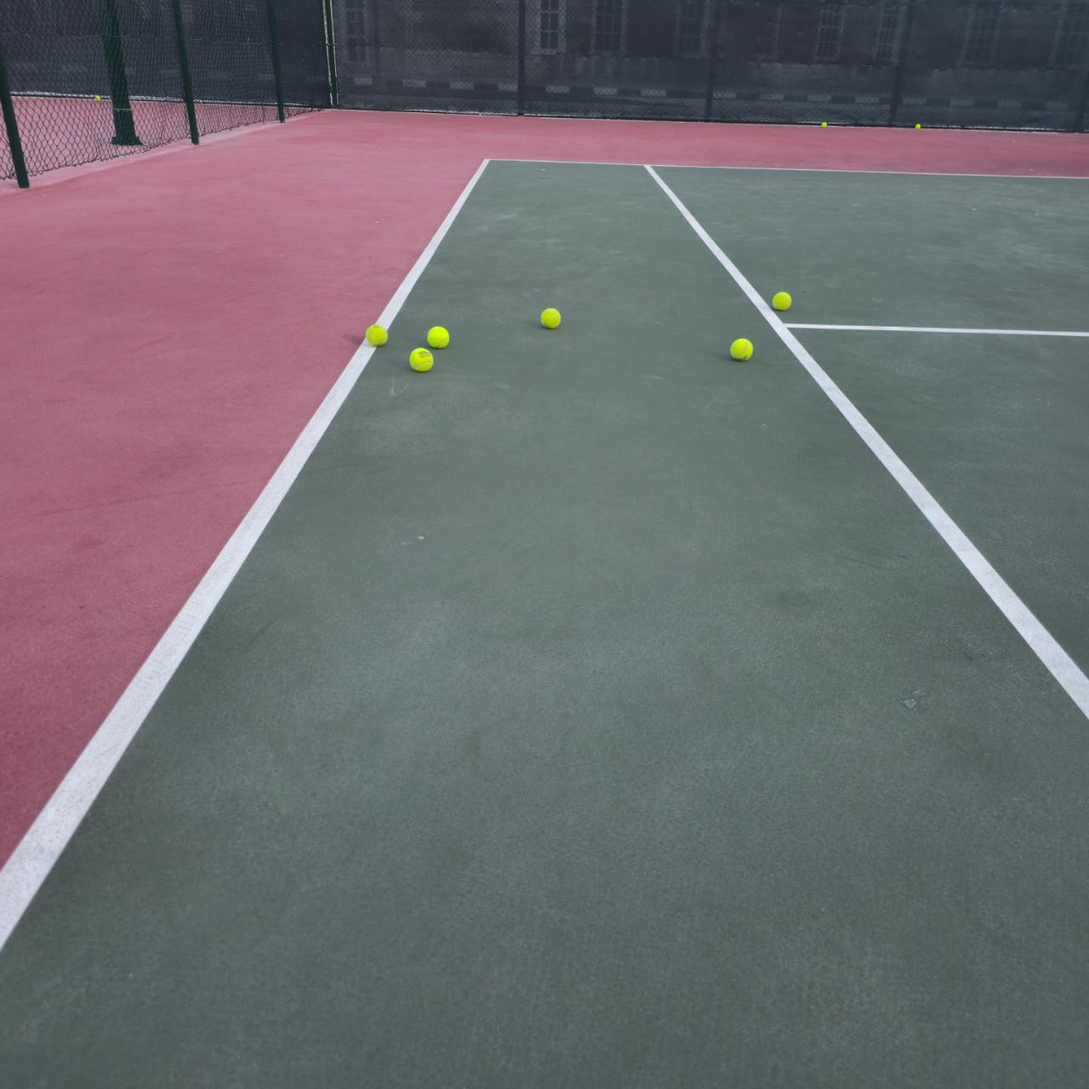tennis-ball: (728, 335, 754, 361), (408, 345, 433, 372), (425, 323, 450, 348), (364, 322, 388, 346), (539, 305, 562, 328), (770, 289, 792, 311), (821, 122, 828, 128), (915, 123, 921, 129)
